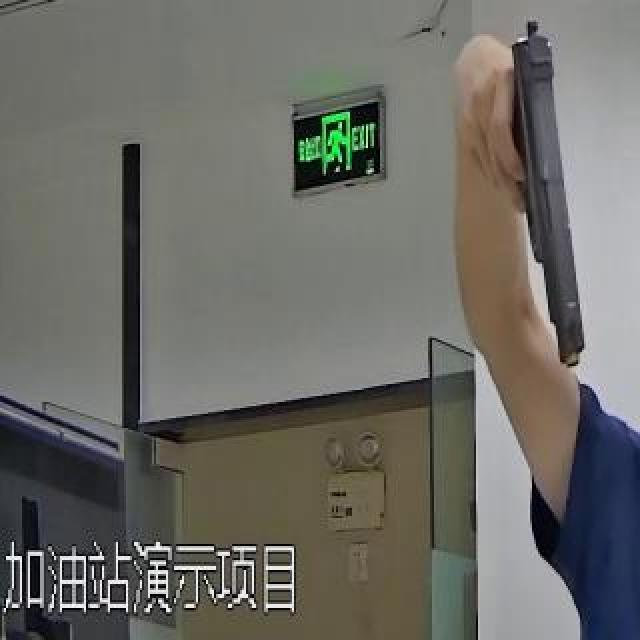Guns: (488, 0, 624, 382)
